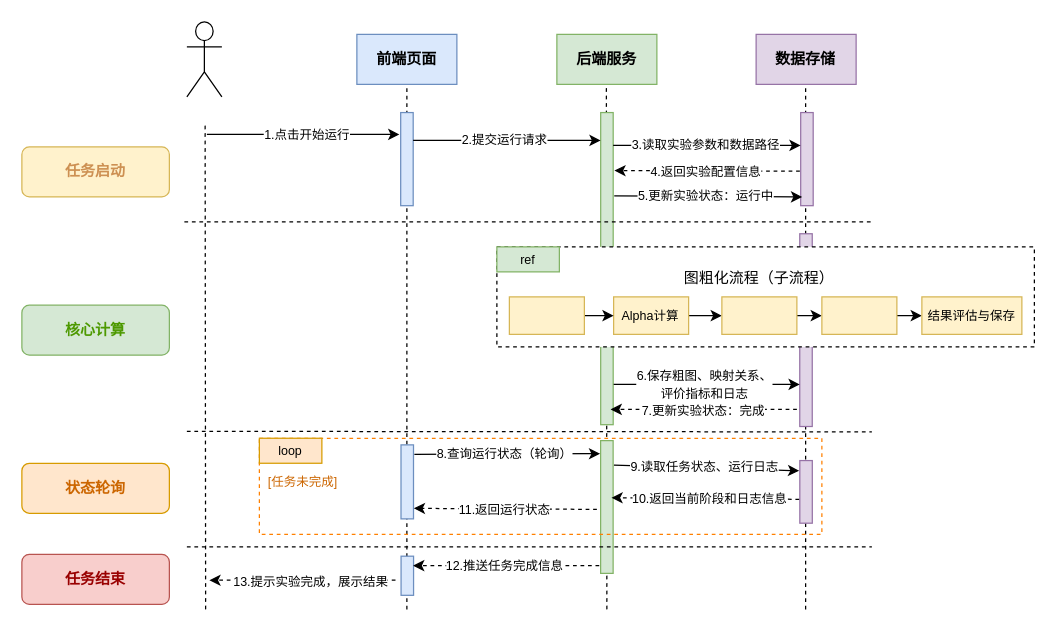
Image size: 1056x633. Some labels were removed from this diagram. Each missing label, with the centre of its shape:
Bin Width 参数标定: [759,315]
UGC 图粗化: [859,315]
数据预处理: [546,315]
用户: [204,59]
